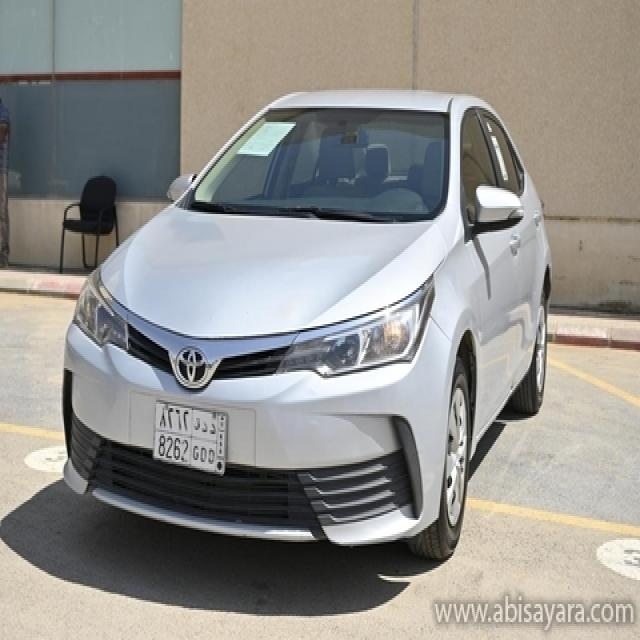license_plate: (152, 398, 228, 478)
